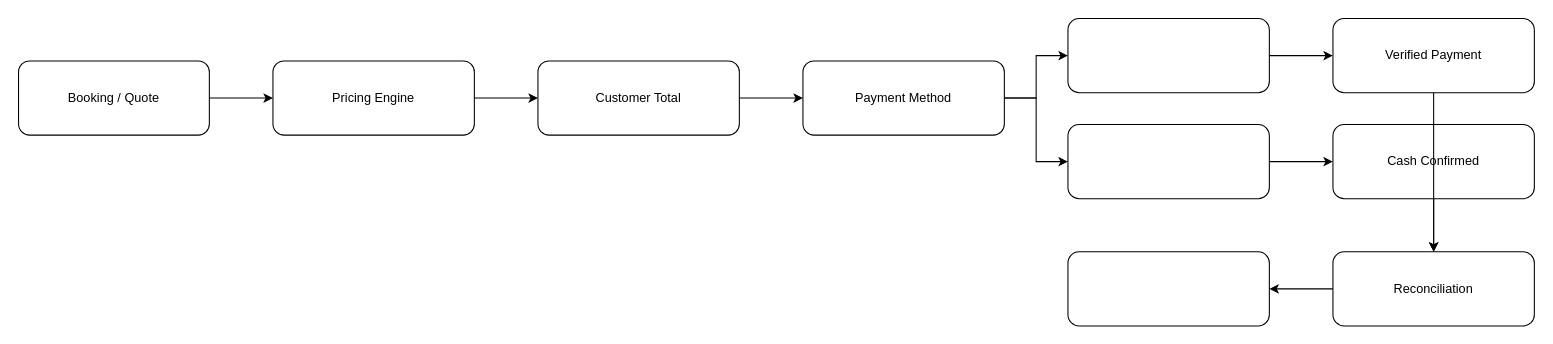
This 1553x344 diagram has some shape labels left out. The centre of each missing label's shape, as x and y in pixels:
Cash Collection: the point at 1168,161
Online Gateway: the point at 1168,55
Provider Payable / Commission: the point at 1168,288
